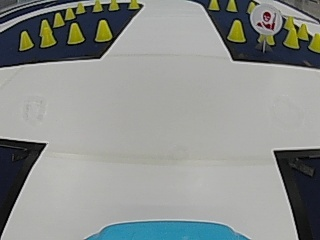evil: (250, 3, 283, 35)
